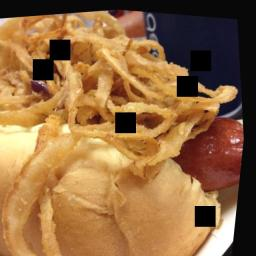hotdog: (173, 102, 248, 197)
